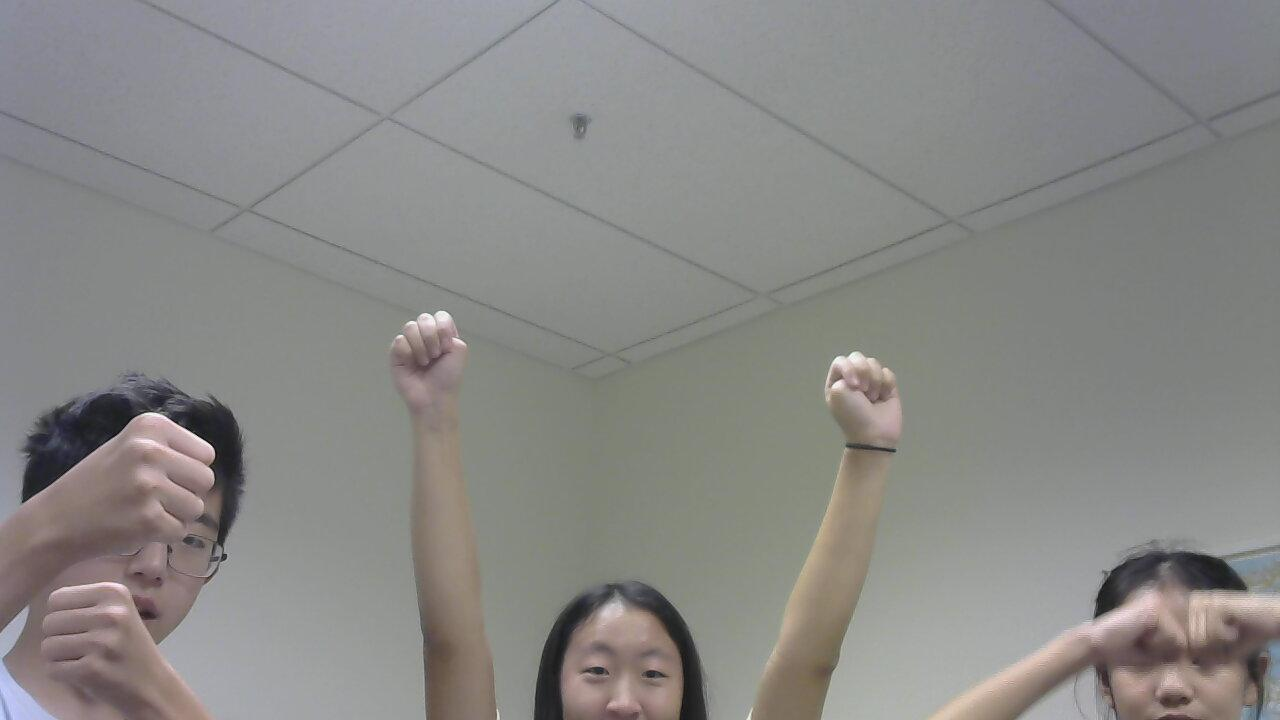fist: (68, 387, 206, 554), (29, 579, 171, 711), (783, 342, 915, 448), (371, 292, 477, 421), (1071, 577, 1195, 678), (1189, 582, 1276, 671)
